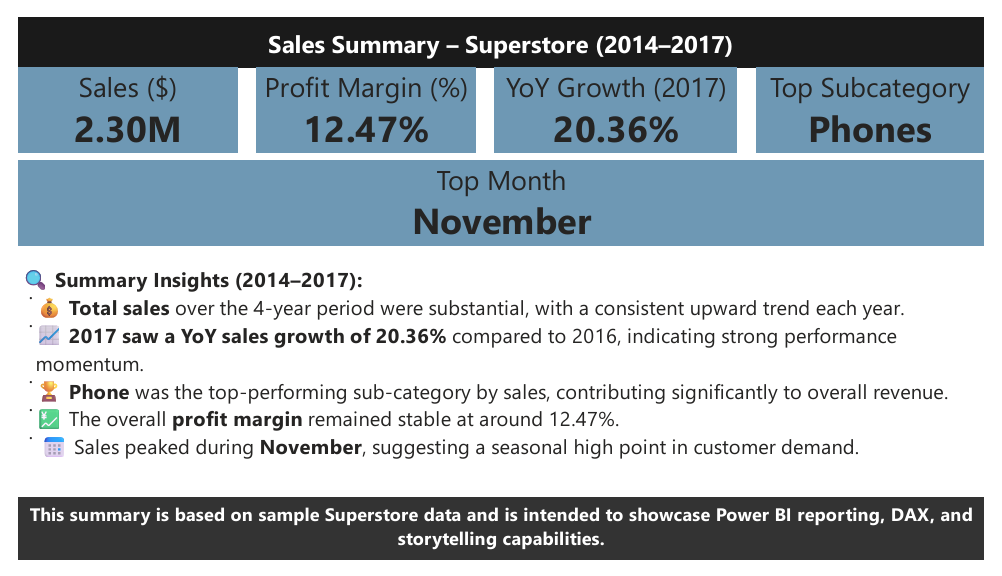

Layout of this report page (visuals, bound fields, positions):
{"tool":"powerbi","page":{"name":"Summary","canvas":[1280,720],"ordinal":1},"visuals":[{"type":"textbox","box":[0,0,1280.7,88.7],"z":0},{"type":"textbox","box":[-0.4,0,1280.7,67.4],"z":1000},{"type":"card","title":"Sales ($)","fields":{"Values":["Sum(ItemOrders.Sales)"]},"box":[0,67.4,290.9,113.5],"z":2000},{"type":"card","title":"Profit Margin (%)","fields":{"Values":["ItemOrders.ProfitMargin"]},"box":[315.8,67.4,290.9,113.5],"z":3000},{"type":"card","title":"YoY Growth (2017)","fields":{"Values":["ItemOrders.YoYGrowth2017"]},"box":[631.5,67.4,322.8,113.5],"z":4000},{"type":"card","title":"Top Subcategory","fields":{"Values":["ItemOrders.TopSubCategory"]},"box":[978.4,67.4,301.6,113.5],"z":5000},{"type":"card","title":"Top Month","fields":{"Values":["ItemOrders.TopSalesMonth"]},"box":[0,189.8,1280.7,113.5],"z":6000},{"type":"textbox","box":[0,322.8,1280.7,290.9],"z":7000},{"type":"textbox","box":[0,636.8,1280.7,83.4],"z":8000}]}

Visuals, with their boxes in screenshot pixels (x1, y1, x2, y2), scaled from the page's 1280x720 canvas onto the 1002x576 screenshot:
textbox: bbox=(0, 0, 1001, 71)
textbox: bbox=(0, 0, 1001, 54)
"Sales ($)" card: bbox=(0, 54, 228, 145)
"Profit Margin (%)" card: bbox=(247, 54, 475, 145)
"YoY Growth (2017)" card: bbox=(494, 54, 747, 145)
"Top Subcategory" card: bbox=(766, 54, 1001, 145)
"Top Month" card: bbox=(0, 152, 1001, 243)
textbox: bbox=(0, 258, 1001, 491)
textbox: bbox=(0, 509, 1001, 575)
